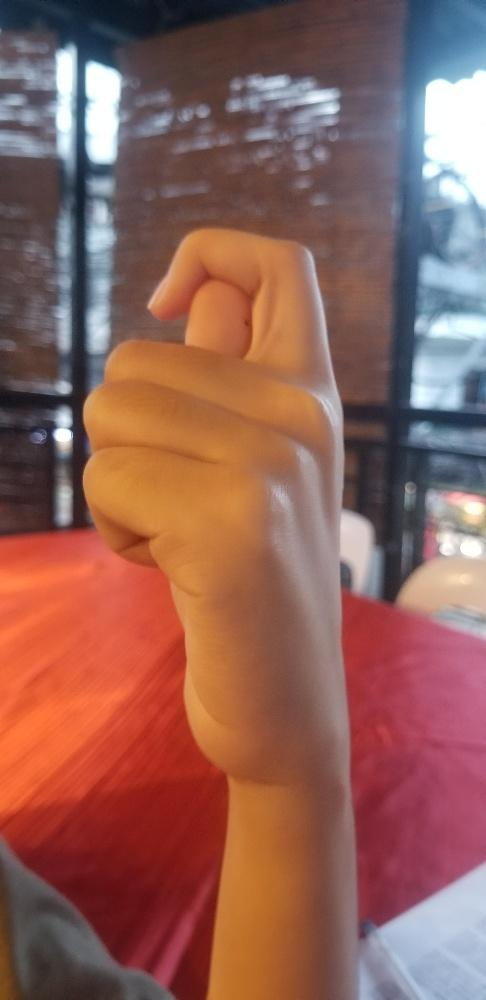t: (82, 226, 353, 766)
